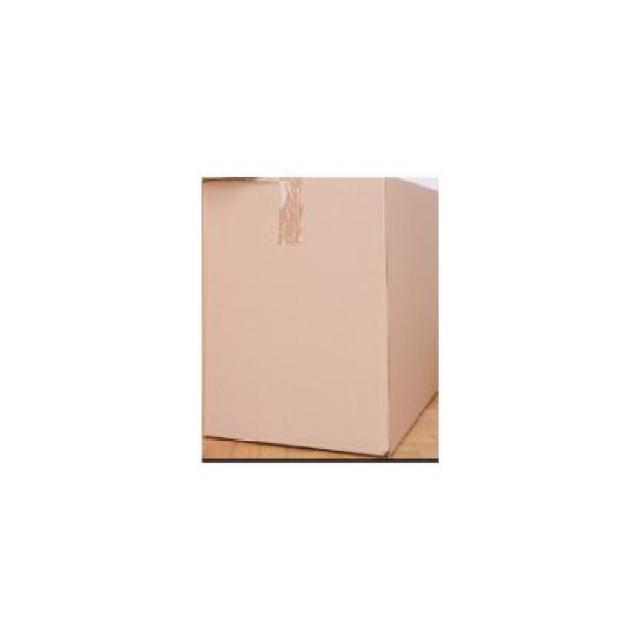cardboxes: (207, 178, 438, 452)
